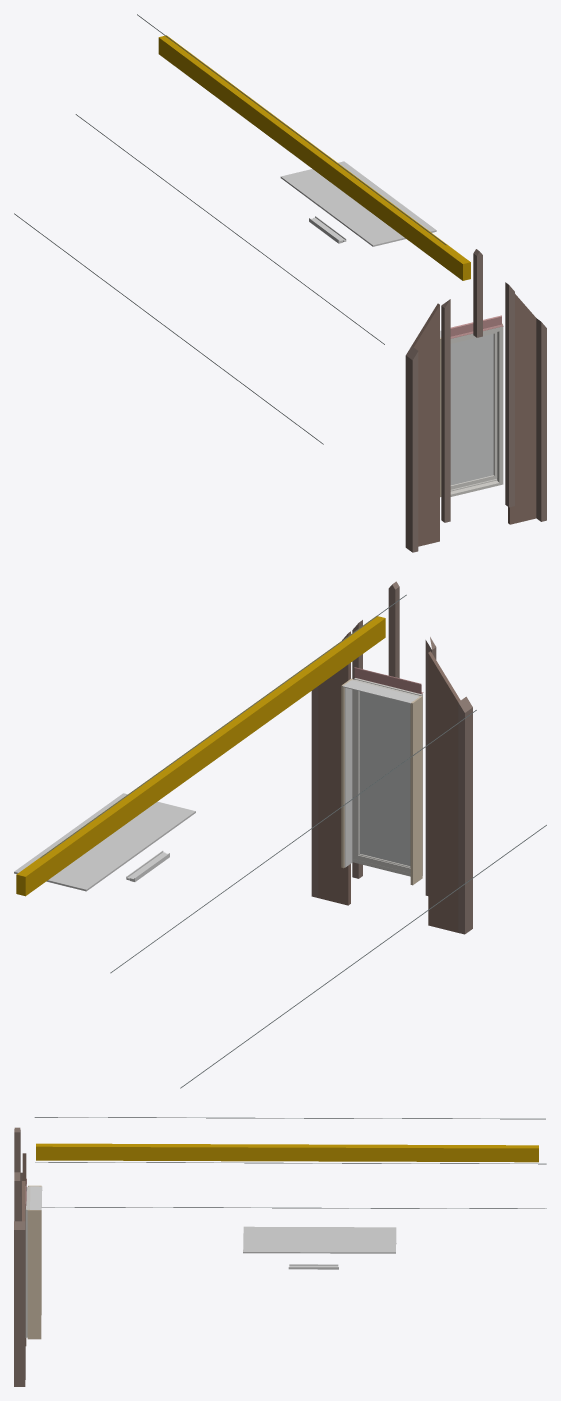
The picture shows the model from 3 angles, top to bottom: view 1: azimuth 30°, elevation 25°; view 2: azimuth 150°, elevation 25°; view 3: azimuth 270°, elevation 25°; orthographic projection. The views are drawn at different scales.
Bounding box in the file's own units: 4.35 × 4.78 × 9.84.
